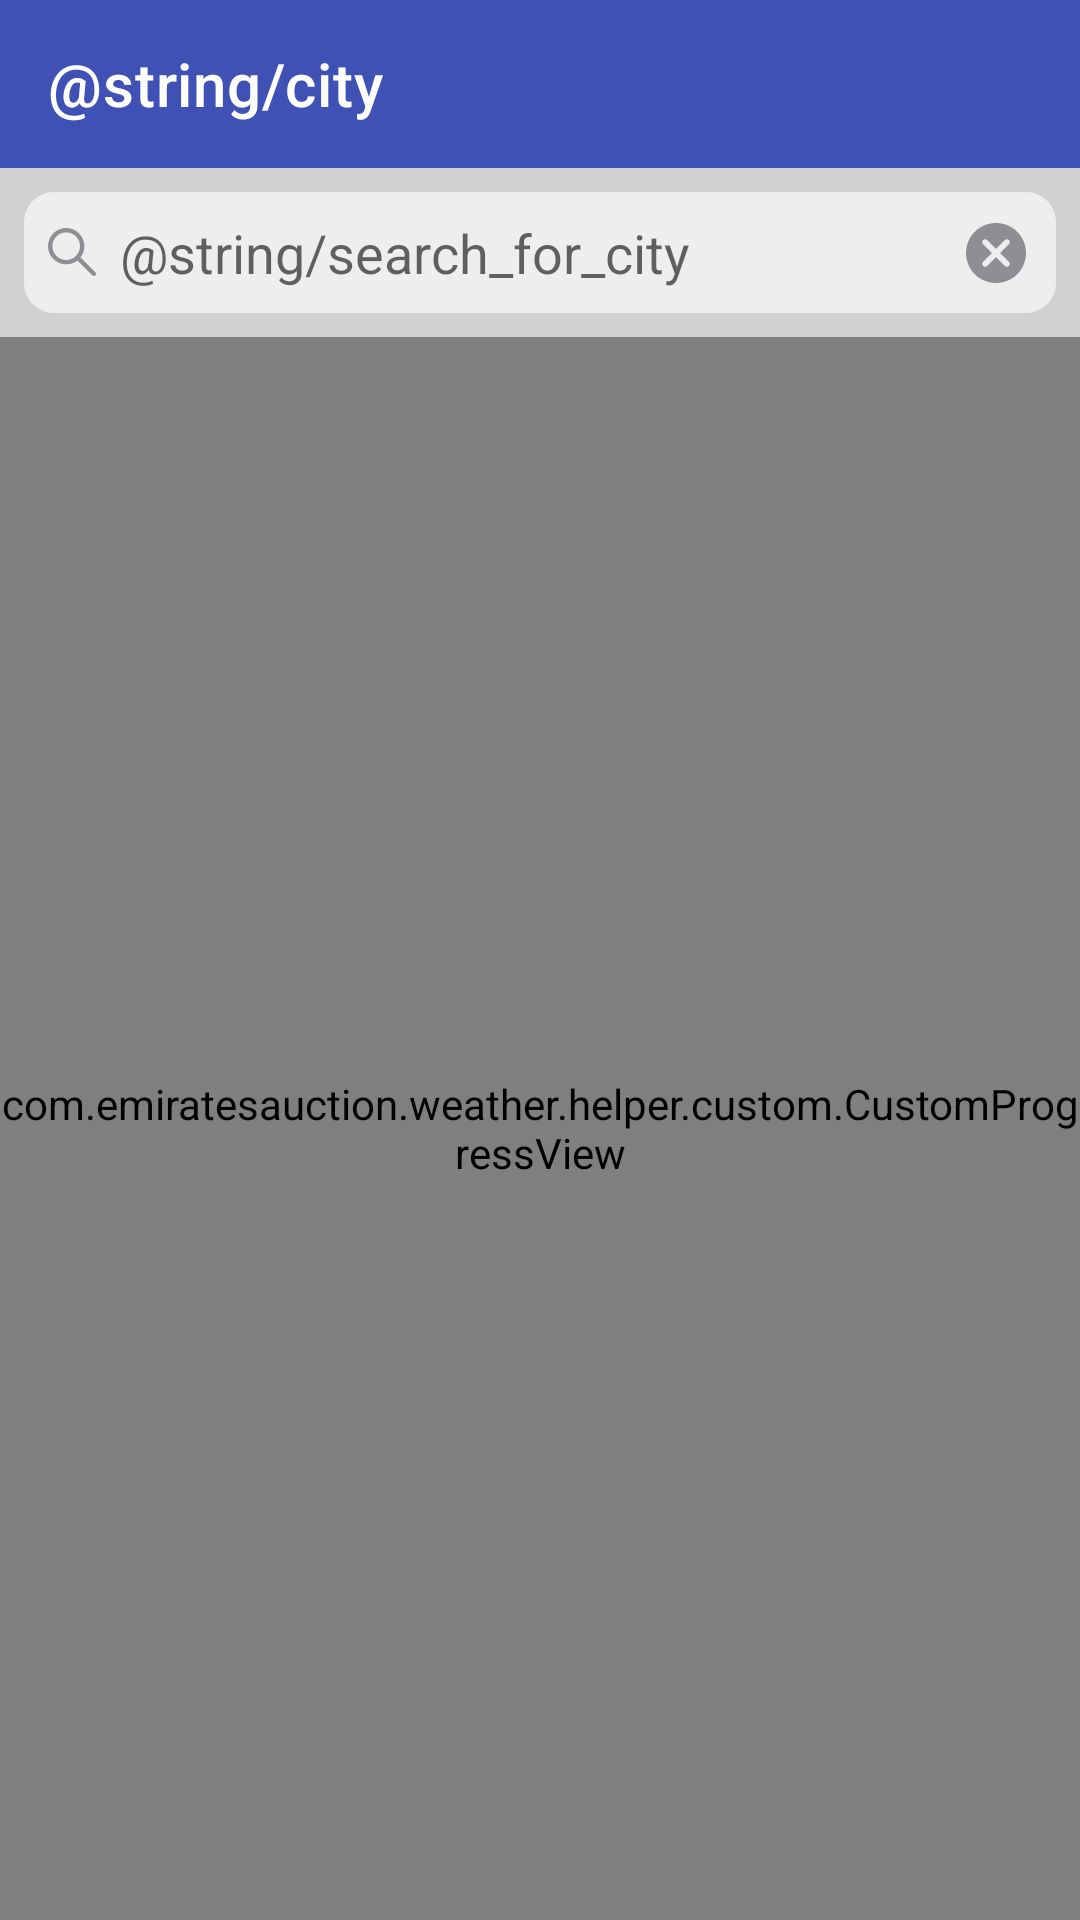

Screen size 1080 × 1920. Icon name, then its box in pixels as [left=x1, top=y1, right=x2, bottom=y2]:
clear: [left=936, top=193, right=1056, bottom=313]
